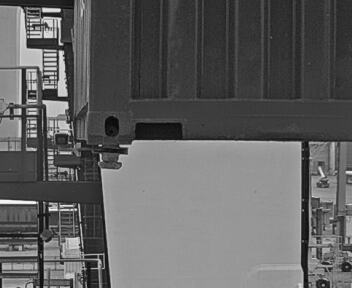twist_lock_1: (83, 137, 133, 177)
